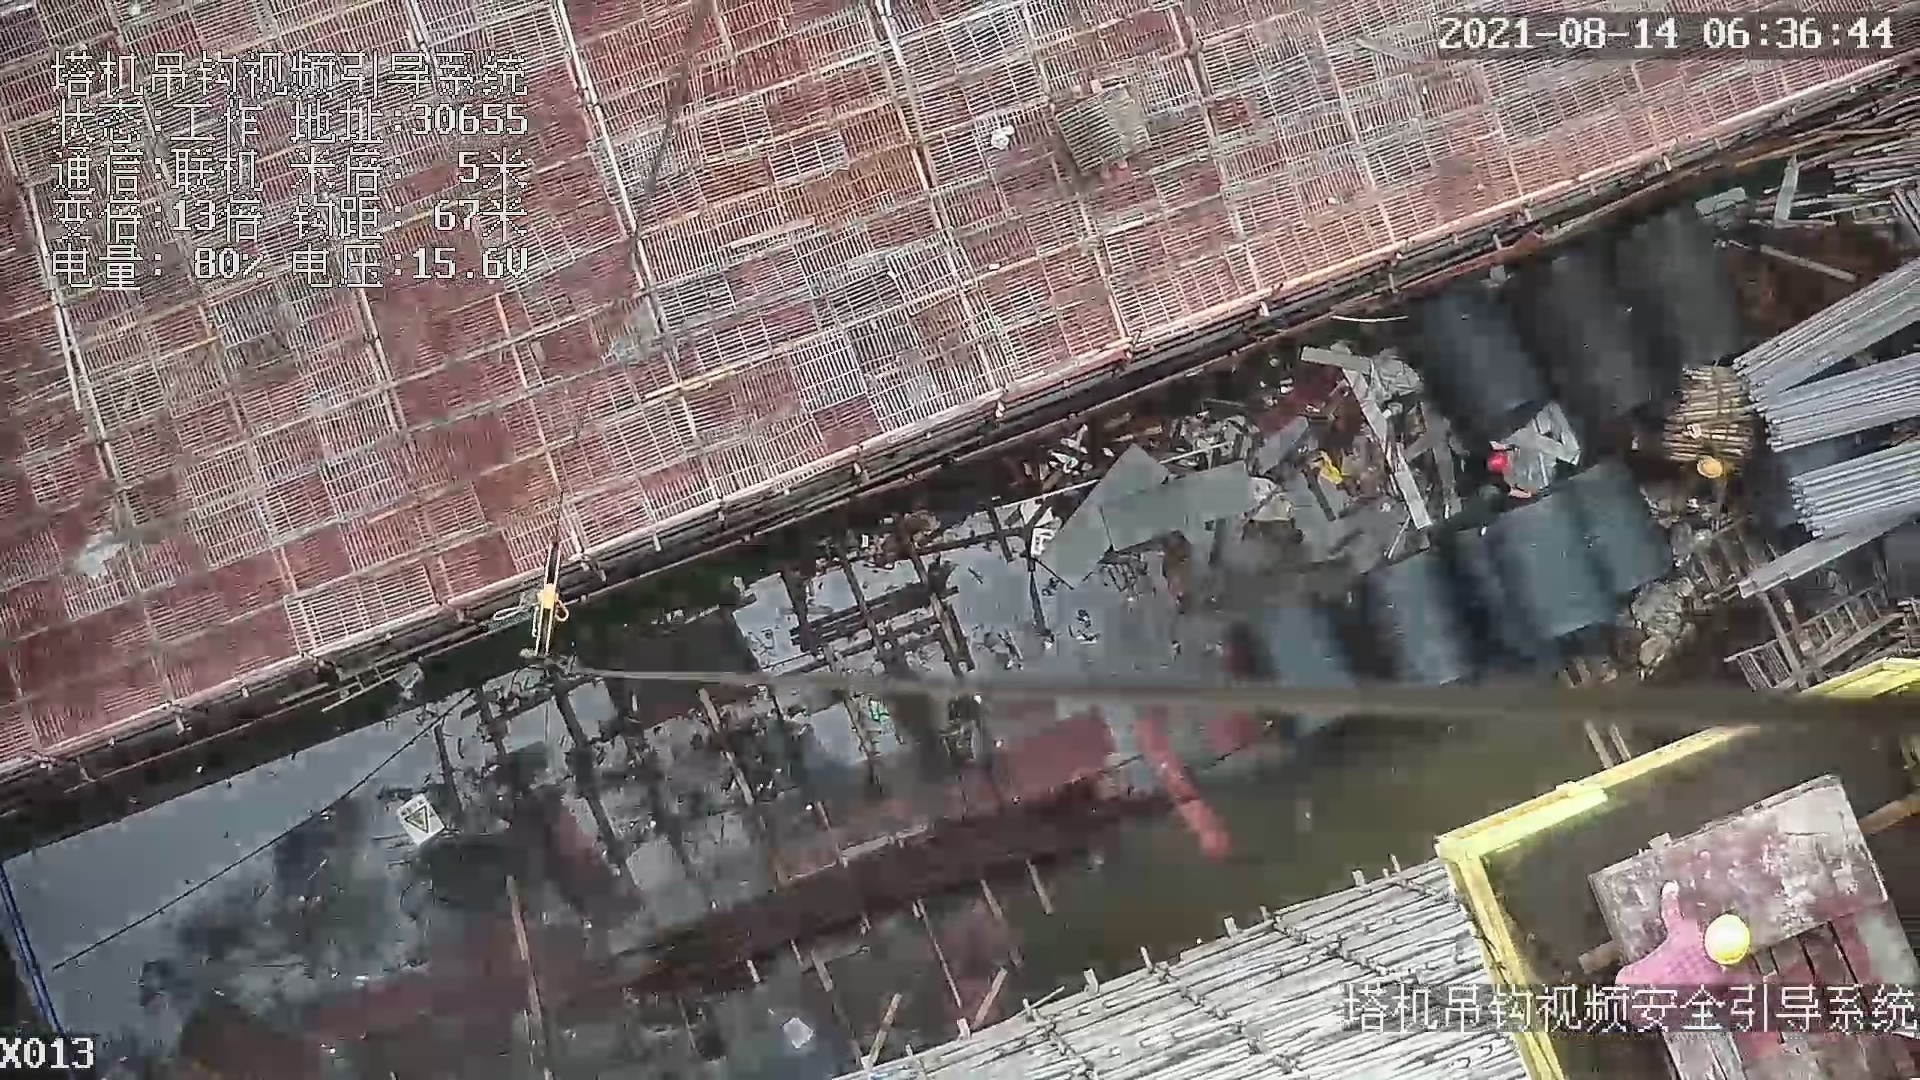helmet: (1692, 912, 1769, 969), (1694, 454, 1726, 485), (1485, 451, 1510, 474)
hook: (492, 541, 570, 655)
person: (1599, 871, 1773, 1035), (1450, 433, 1536, 510)
scaffold: (1650, 333, 1751, 465)
